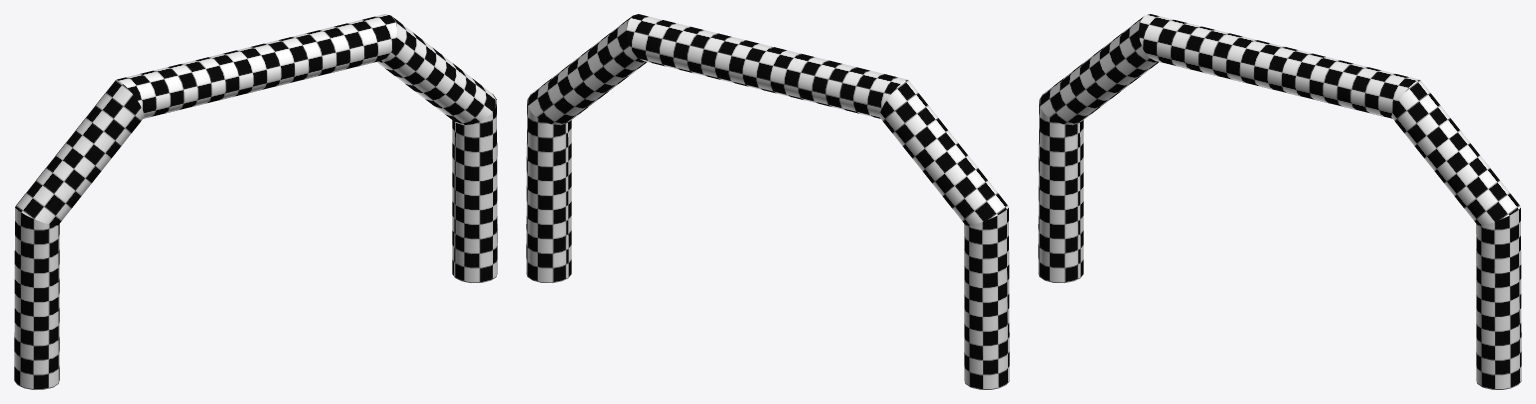
The model's file is CheckPoint.fbx.
3 views of the same model, side by side, from view 1: azimuth 30°, elevation 25°; view 2: azimuth 150°, elevation 25°; view 3: azimuth 330°, elevation 25° (orthographic).
Visible parts, largest first — view 1: CheckPoint2; view 2: CheckPoint2; view 3: CheckPoint2.
Part boxes in pixels (x1,y1,x2,y2): CheckPoint2: (14, 14, 497, 389); CheckPoint2: (526, 14, 1009, 389); CheckPoint2: (1038, 14, 1521, 389).
Size of the model in its own units: 5665 by 3156 by 488.
1 material, 1 textured.
